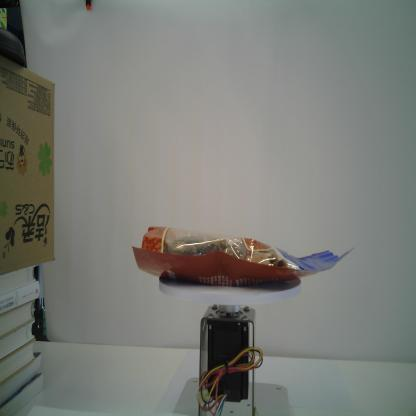Dried Food: (131, 225, 356, 288)
